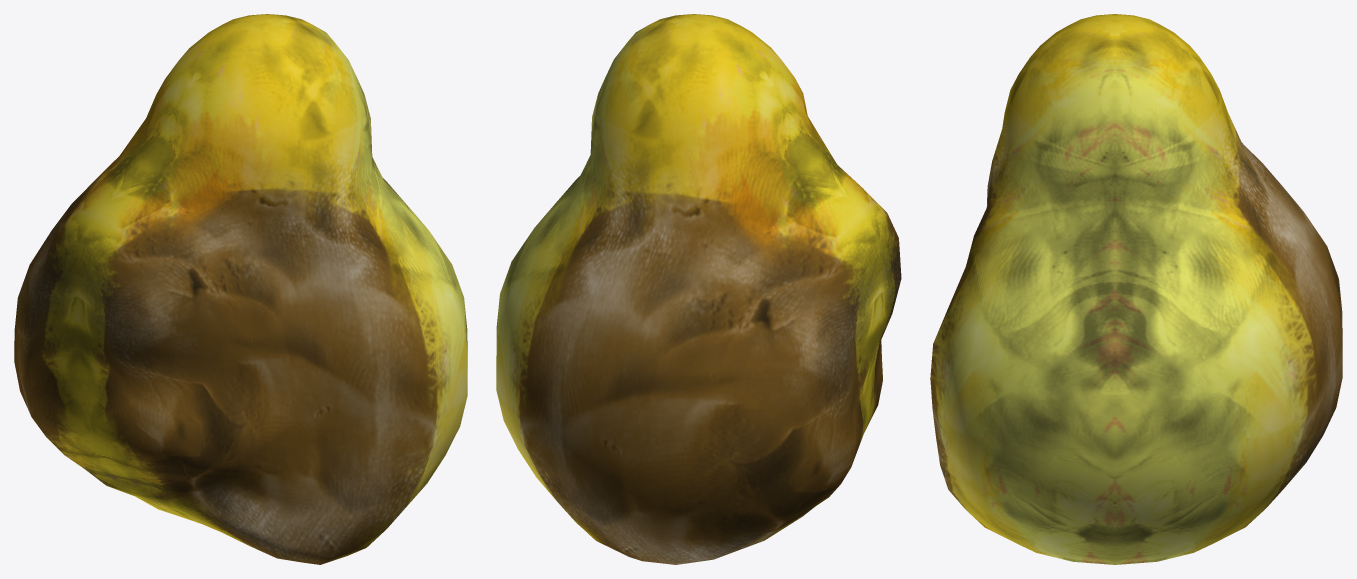
Rendered from mPoireP2.FBX.
3 renders of one model, left to right at view 1: azimuth 30°, elevation 25°; view 2: azimuth 150°, elevation 25°; view 3: azimuth 270°, elevation 25°, orthographic.
Parts seen in each view (by area): view 1: Poire_Negatif_01; view 2: Poire_Negatif_01; view 3: Poire_Negatif_01.
Boxes of the visible parts, x1,y1,x2,y2 form: Poire_Negatif_01: (14, 14, 467, 564); Poire_Negatif_01: (496, 14, 901, 564); Poire_Negatif_01: (930, 14, 1342, 564).
Bounding box in the file's own units: 1.45 × 1.89 × 1.38.
